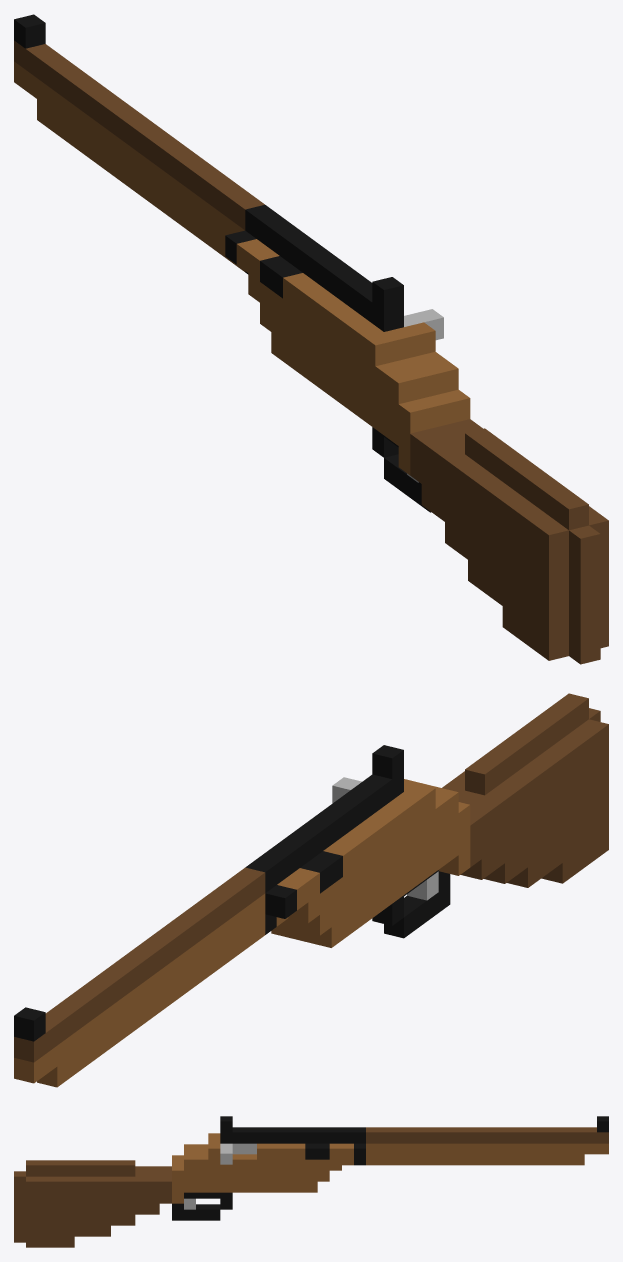
Rendered from rifle.obj.
3 renders of one model, top to bottom at view 1: azimuth 30°, elevation 25°; view 2: azimuth 150°, elevation 25°; view 3: azimuth 270°, elevation 25°, orthographic. The views are drawn at different scales.
Visible parts, largest first — view 1: bolt_rifle_Mesh; view 2: bolt_rifle_Mesh; view 3: bolt_rifle_Mesh.
Part boxes in pixels (x1,y1,x2,y2): bolt_rifle_Mesh: [14, 14, 608, 664]; bolt_rifle_Mesh: [14, 693, 608, 1087]; bolt_rifle_Mesh: [14, 1116, 608, 1247].
Bounding box in the file's own units: 0.1575 × 0.4331 × 1.93.
